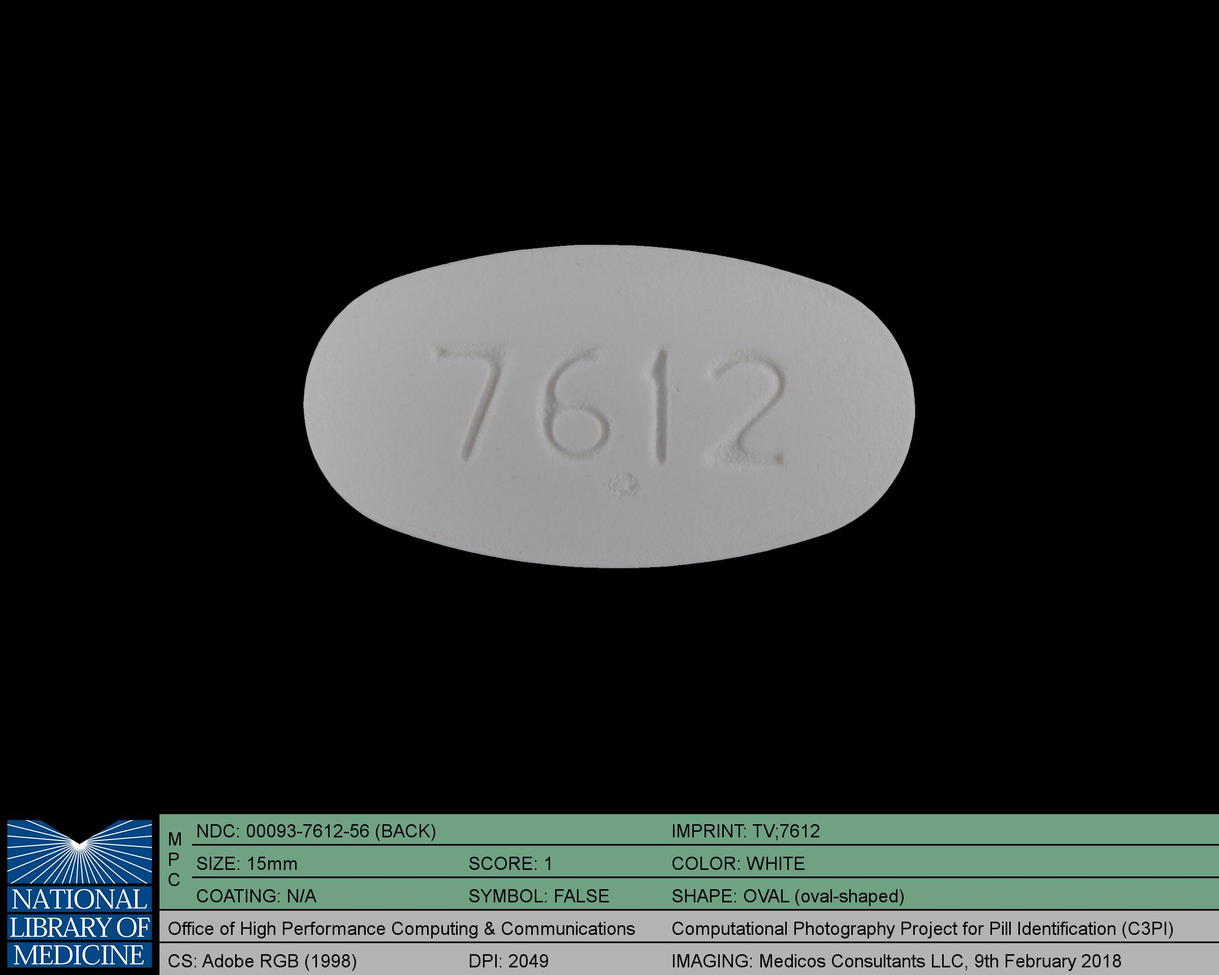Pill: (291, 230, 926, 581)
